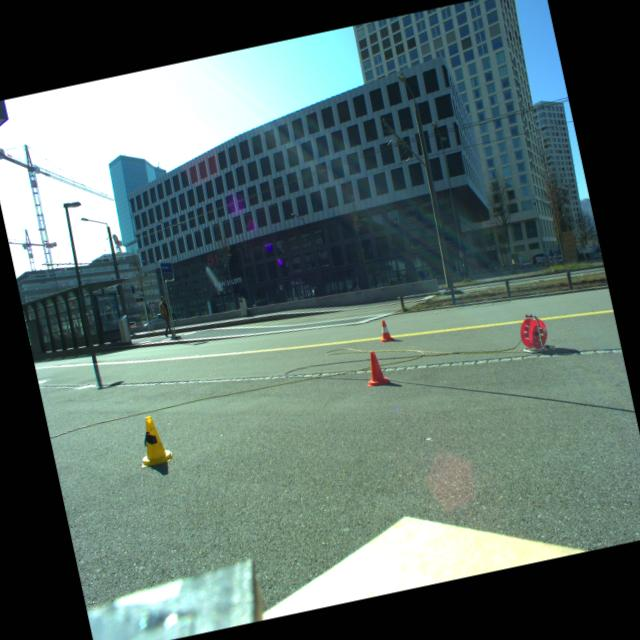orange_cone: (360, 348, 389, 388), (375, 318, 395, 343)
yellow_cone: (132, 412, 174, 468)
